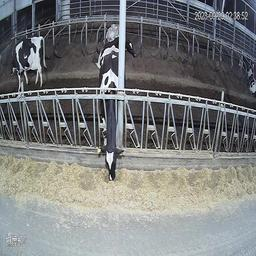cow: (98, 55, 126, 181), (9, 36, 40, 90), (94, 35, 136, 70), (245, 61, 256, 104)
